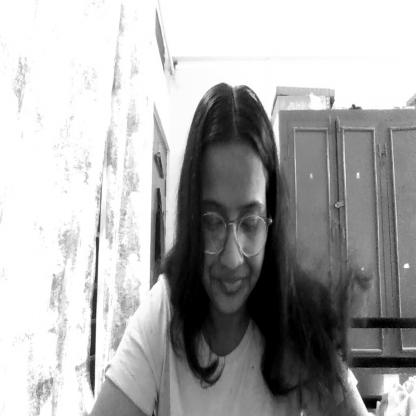Normal: (180, 83, 278, 312)
